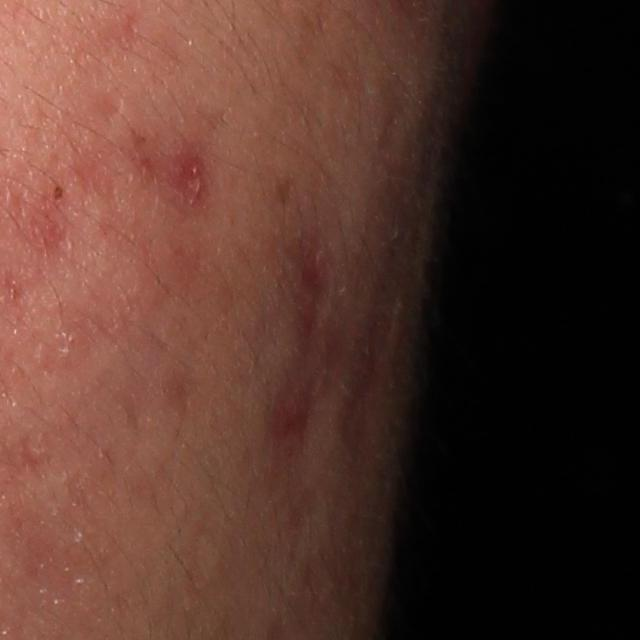atrophic_scar: (263, 345, 328, 468), (155, 128, 215, 228), (73, 155, 123, 200), (100, 84, 125, 118)
nevus: (54, 183, 65, 202)
